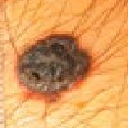Carcinoma: (12, 31, 90, 100)
